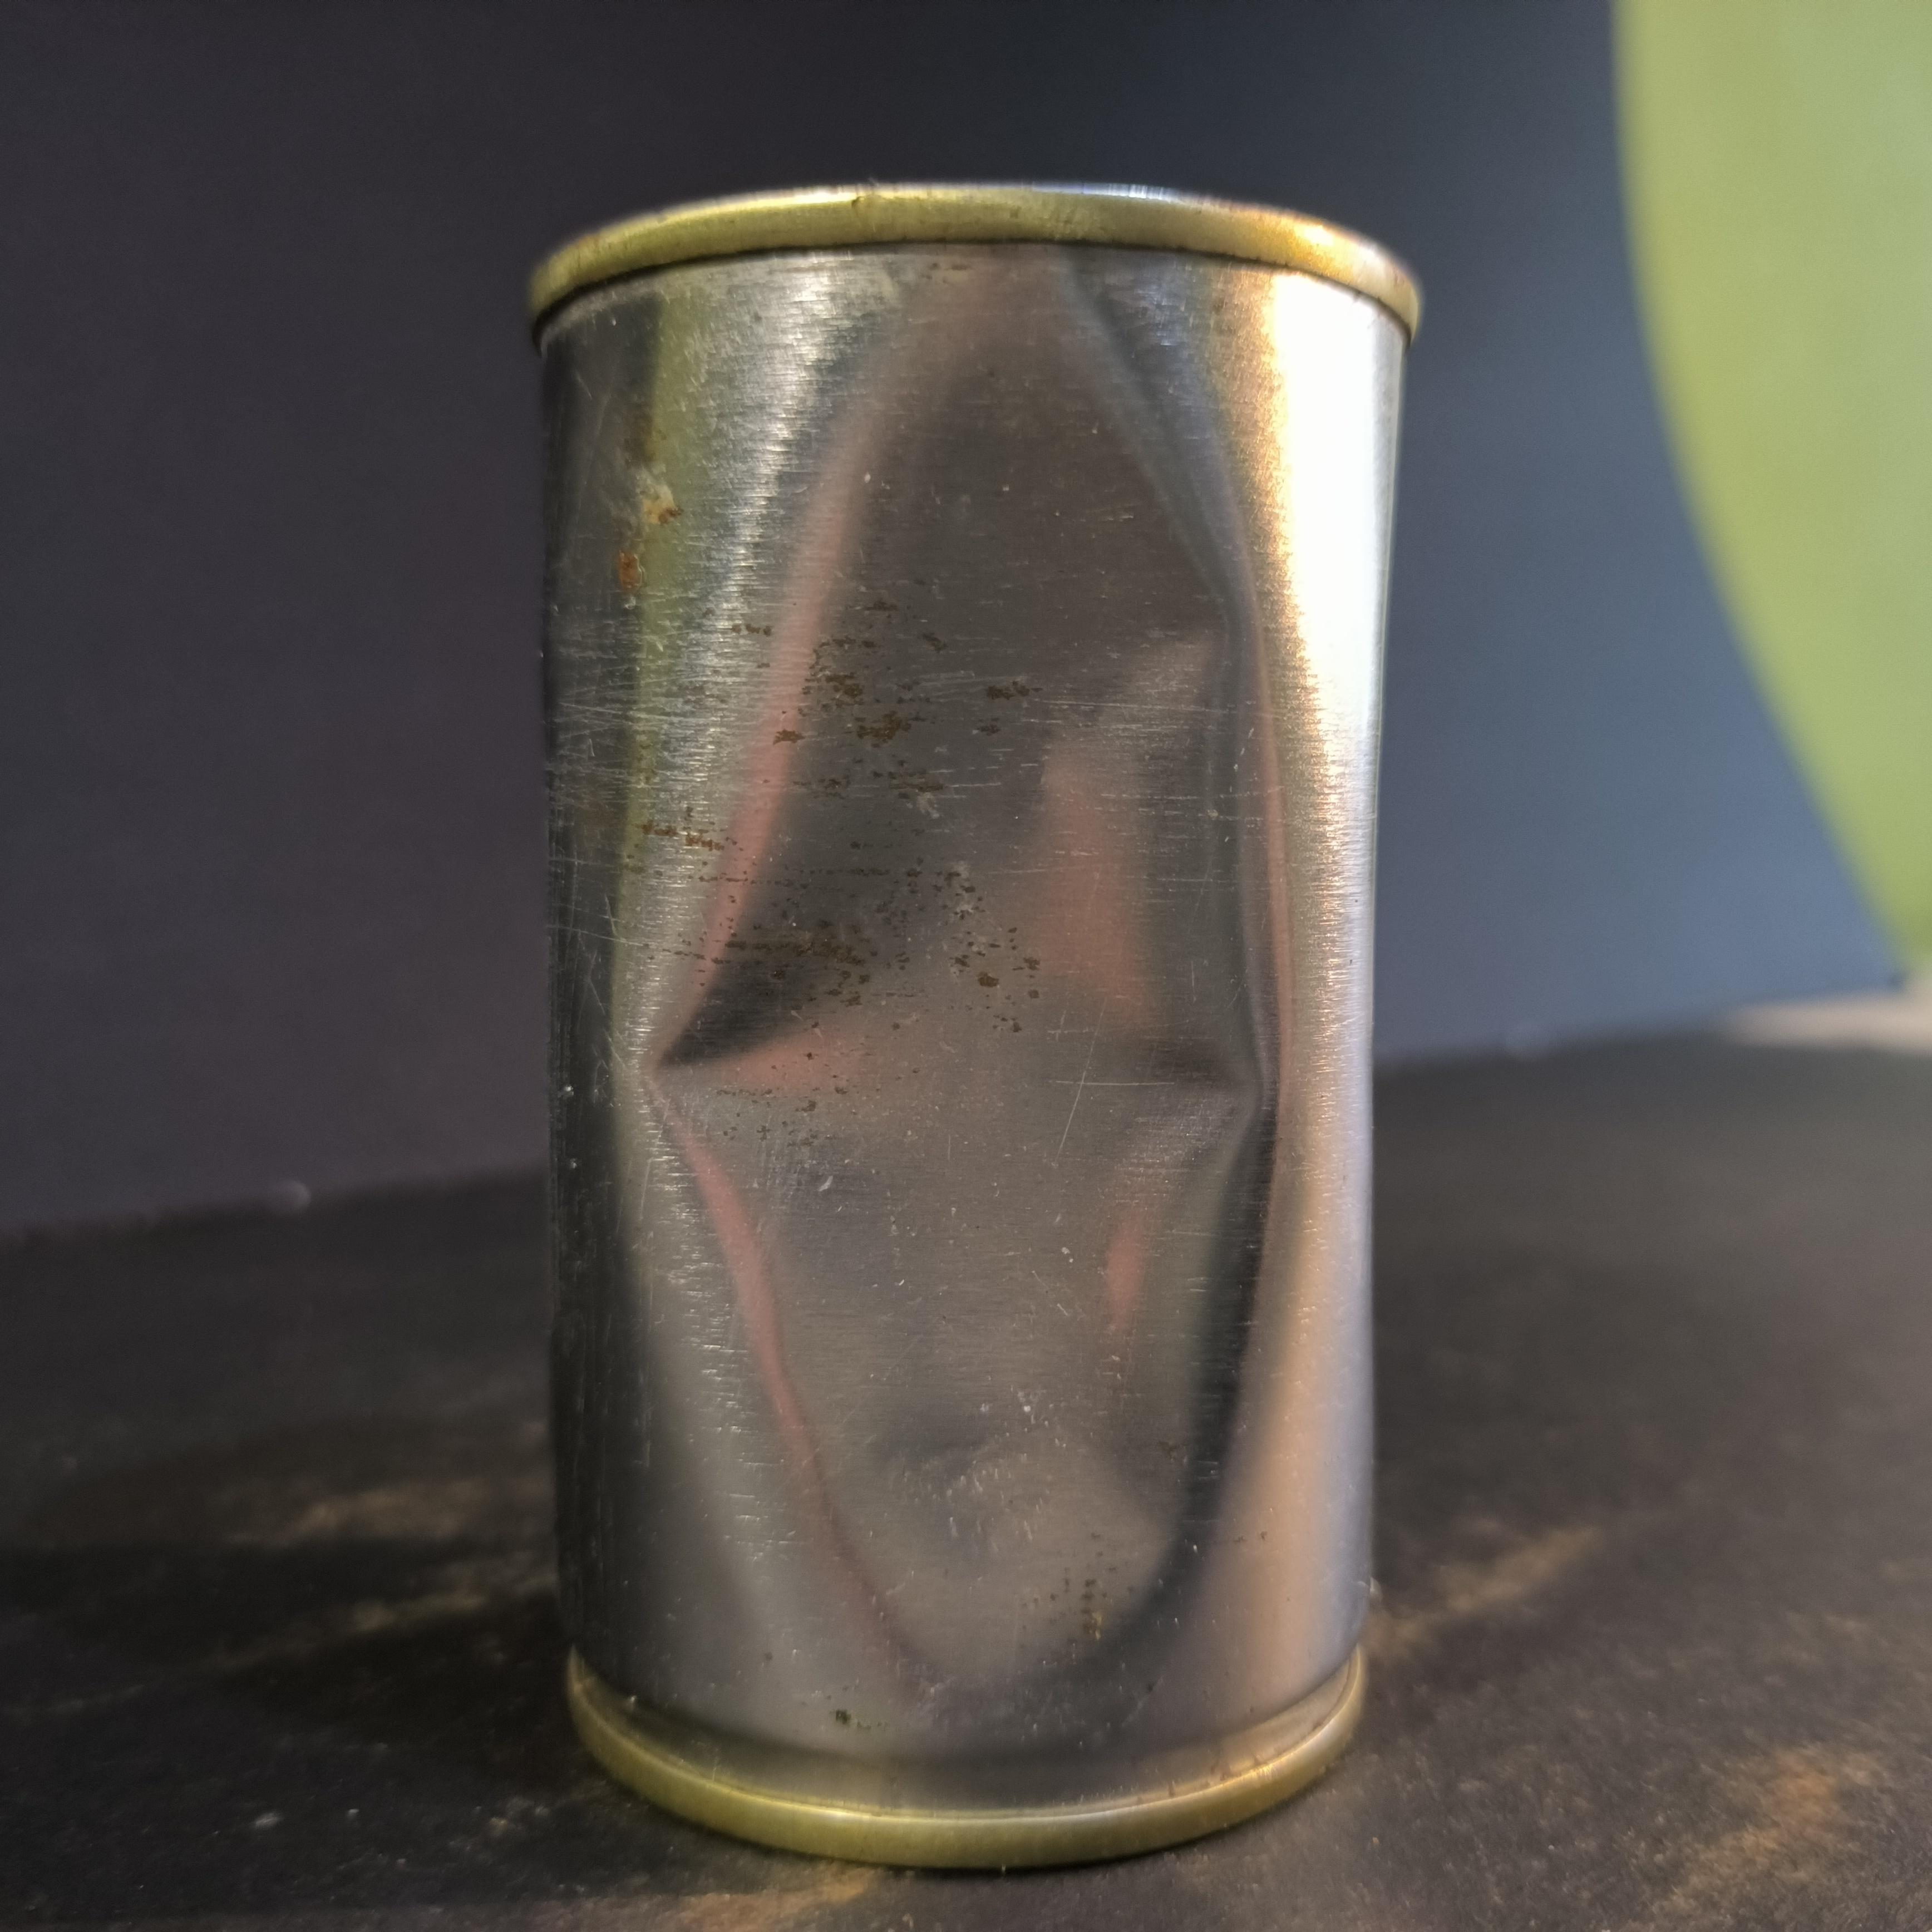Dented: (485, 166, 1428, 1877)
